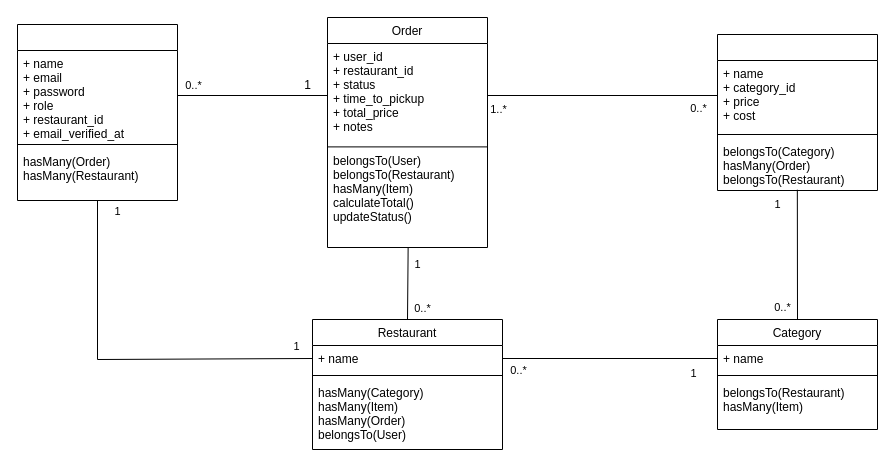
Some shapes in this 895 by 467 pixel diagram are drawn without their labels. The box of each missing label's shape, as (x1, y1, x2, y2) in pixels:
Item: (716, 34, 878, 190)
User: (16, 24, 178, 200)
